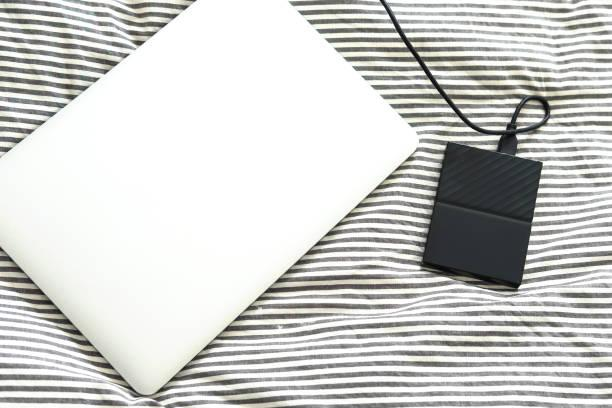HDD: (422, 143, 544, 289)
